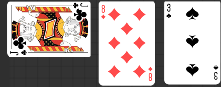3C: (213, 64, 220, 82)
JC: (10, 49, 29, 57), (72, 2, 89, 10)
